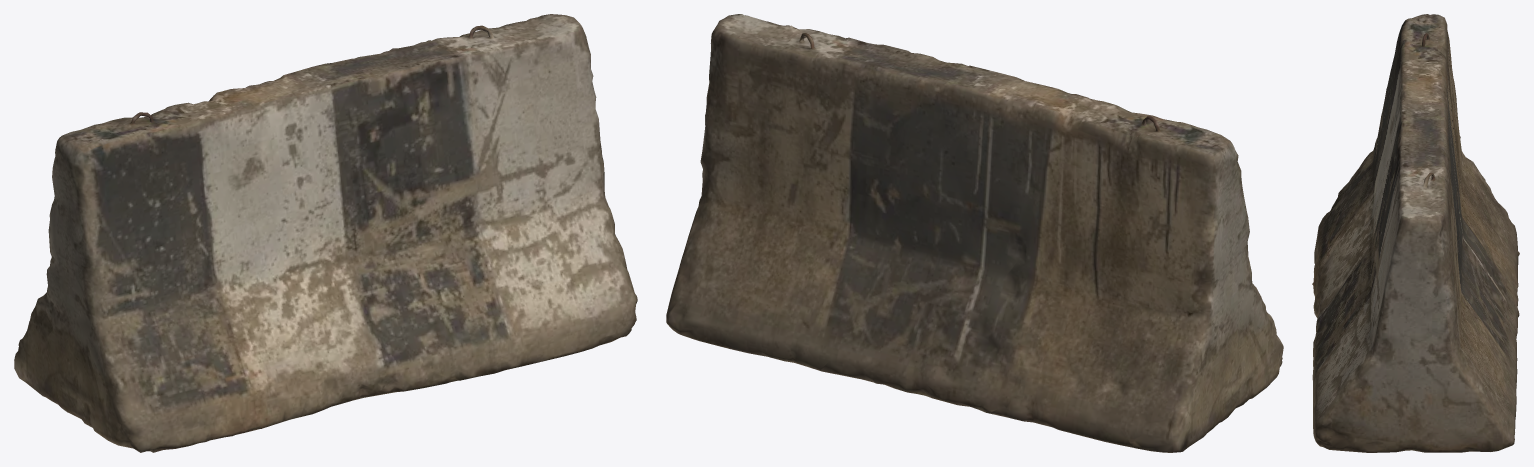
Rendered from concrete_road_barrier.glb.
3 views of the same model, side by side, from view 1: azimuth 30°, elevation 25°; view 2: azimuth 150°, elevation 25°; view 3: azimuth 270°, elevation 25° (orthographic). The views are drawn at different scales.
Parts seen in each view (by area): view 1: concrete_road_barrier; view 2: concrete_road_barrier; view 3: concrete_road_barrier.
Boxes of the visible parts, x1,y1,x2,y2 form: concrete_road_barrier: (14, 14, 637, 452); concrete_road_barrier: (666, 14, 1283, 452); concrete_road_barrier: (1312, 14, 1519, 452).
Bounding box in the file's own units: 1.54 × 0.8303 × 0.6387.
Materials: 1 (1 with a texture image).
